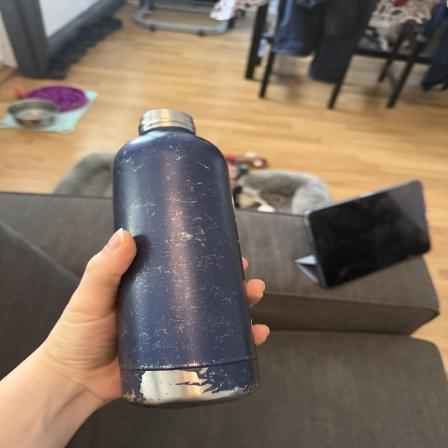blue_bottle: (110, 108, 260, 404)
